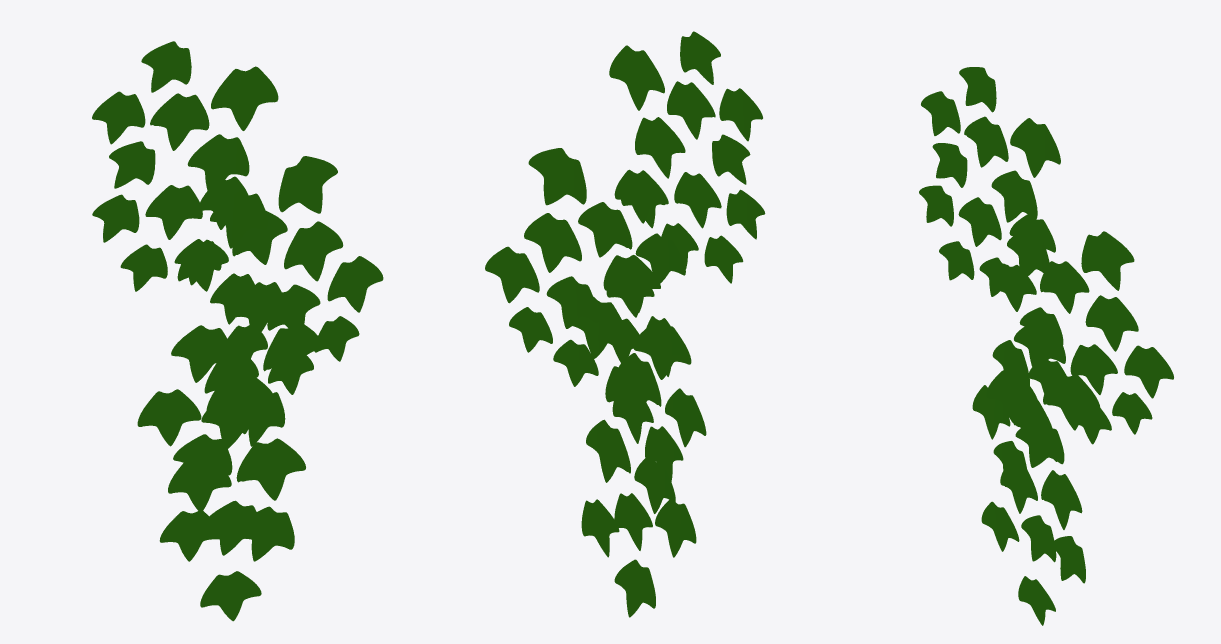
Rendered from Prop_Vine4.obj.
3 views of the same model, side by side, from view 1: azimuth 30°, elevation 25°; view 2: azimuth 150°, elevation 25°; view 3: azimuth 330°, elevation 25° (orthographic). The views are drawn at different scales.
Visible parts, largest first — view 1: Prop_Vine4; view 2: Prop_Vine4; view 3: Prop_Vine4.
Boxes of the visible parts, x1=… form: Prop_Vine4: x1=92, y1=41, x2=383, y2=621; Prop_Vine4: x1=485, y1=31, x2=765, y2=617; Prop_Vine4: x1=919, y1=67, x2=1173, y2=625.
Bounding box in the file's own units: 1.02 × 1.59 × 0.15.
